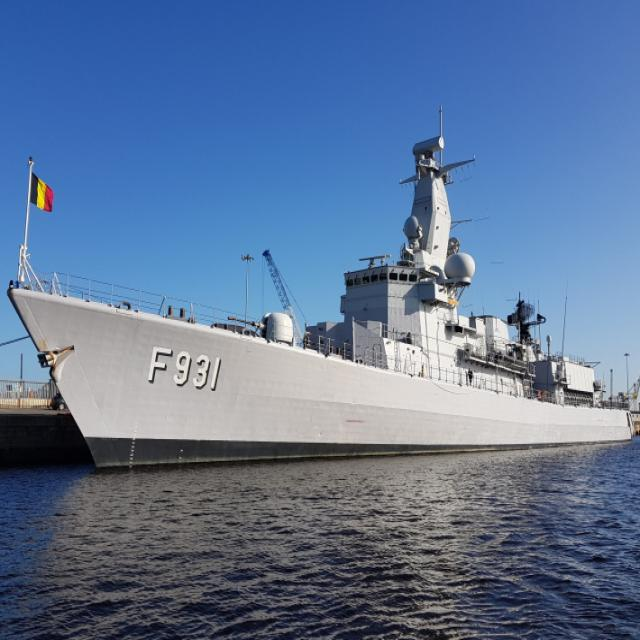Fragata: (3, 132, 640, 479)
